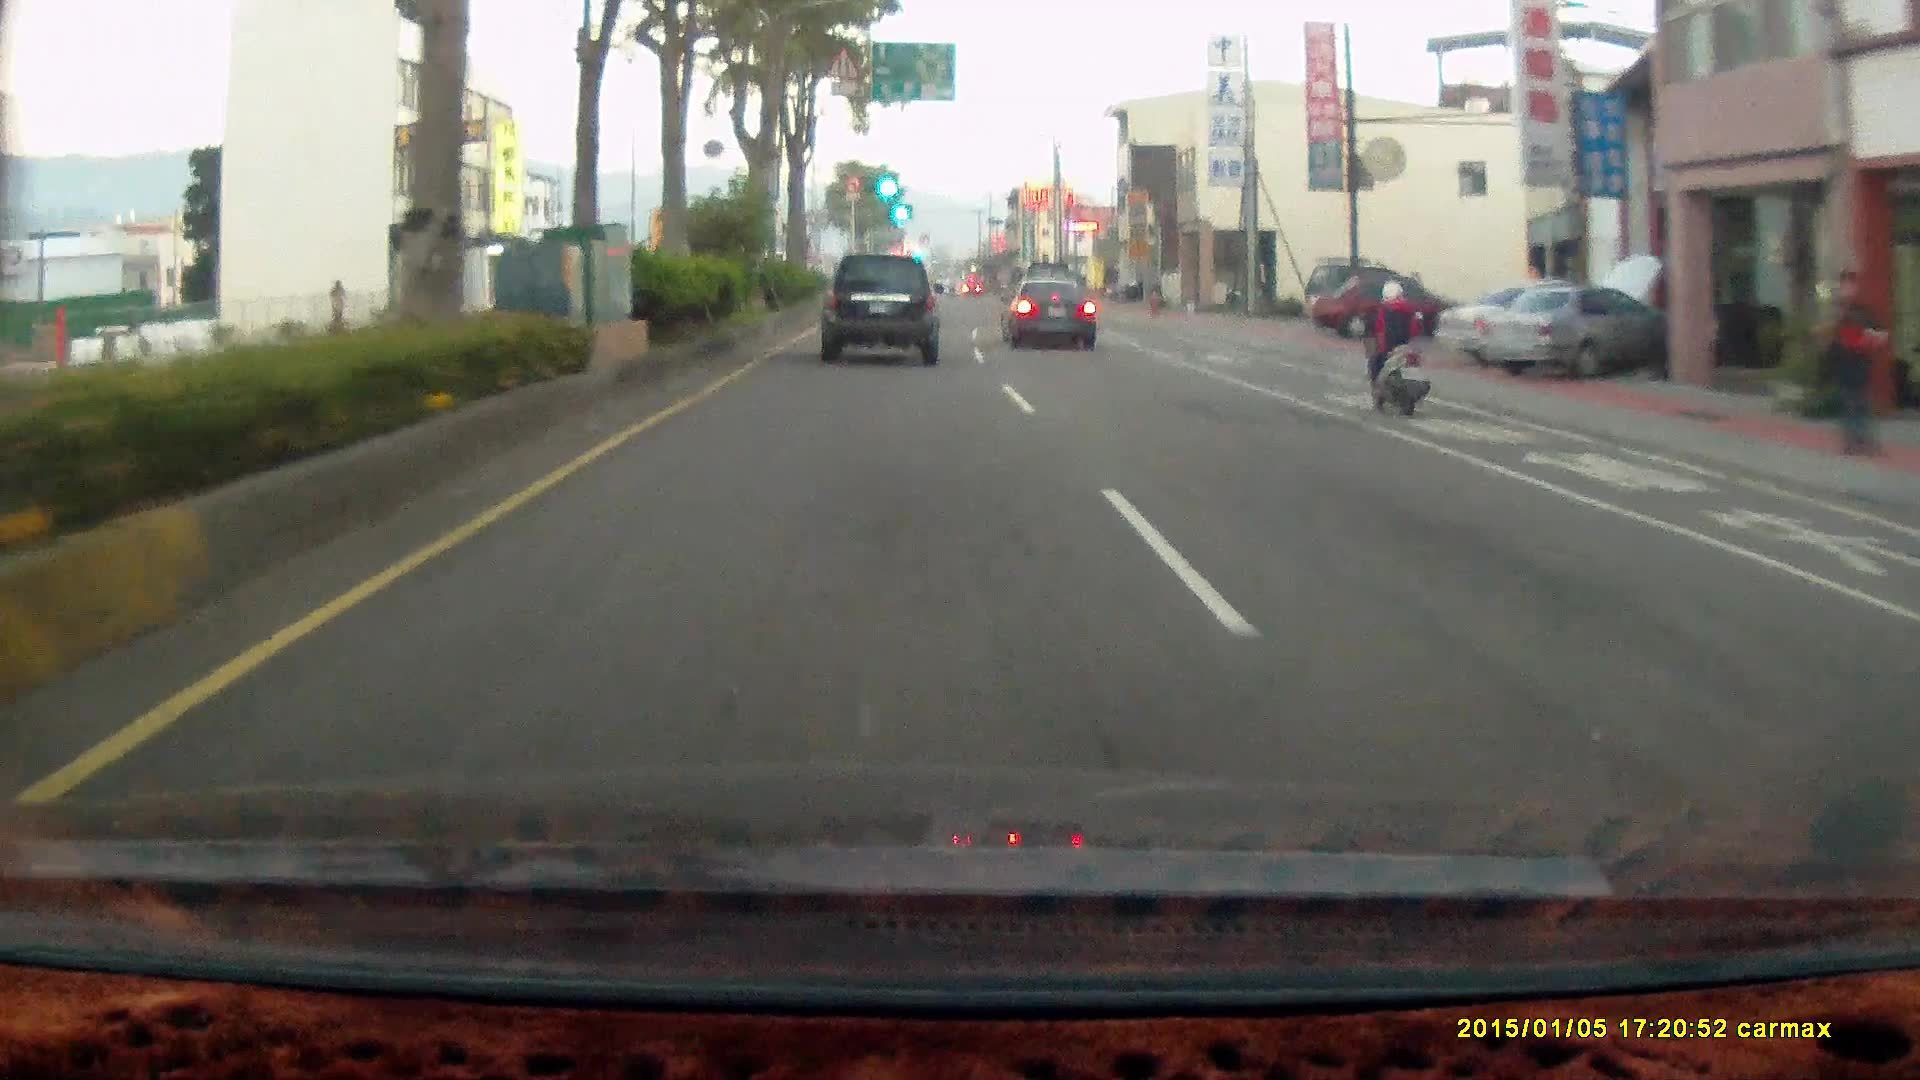pedestrian: (1811, 269, 1886, 461)
rider: (1353, 266, 1437, 429), (1358, 280, 1430, 417)
vehicle: (1475, 285, 1668, 378), (1475, 286, 1669, 379), (818, 256, 948, 371), (818, 254, 943, 363), (1307, 271, 1462, 342), (1311, 275, 1466, 339), (999, 276, 1097, 349), (1005, 276, 1102, 348), (1105, 279, 1159, 302)
